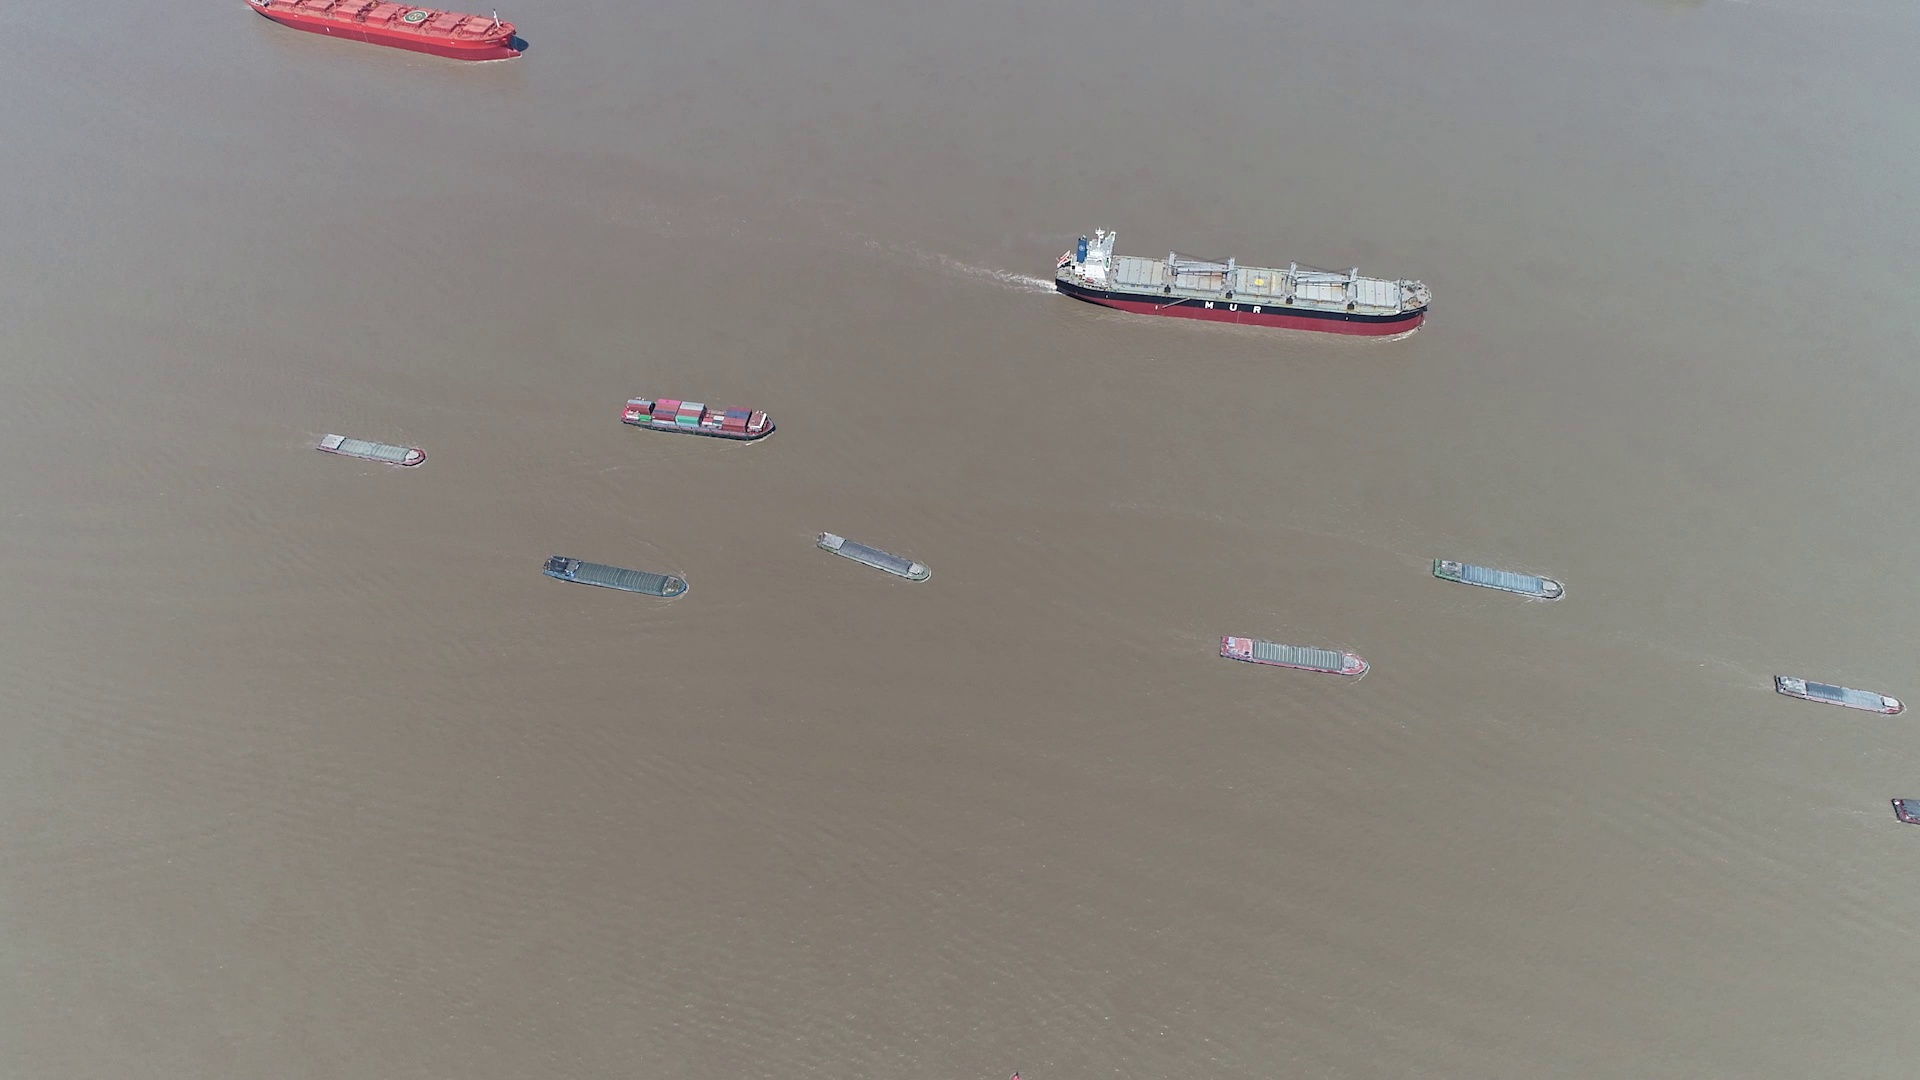ship: (1058, 231, 1432, 334), (249, 0, 525, 63), (620, 397, 775, 440), (1217, 634, 1367, 678), (816, 533, 930, 587), (1771, 673, 1905, 717), (545, 556, 688, 597), (1431, 560, 1569, 603), (316, 431, 427, 467), (1891, 799, 1919, 828)
